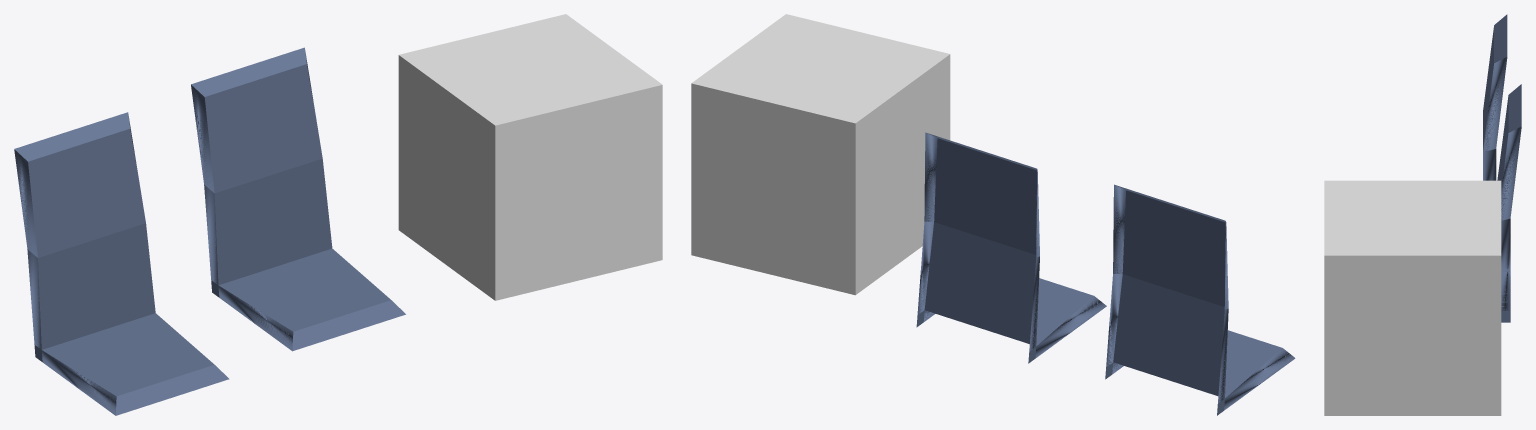
3 renders of one model, left to right at view 1: azimuth 30°, elevation 25°; view 2: azimuth 150°, elevation 25°; view 3: azimuth 270°, elevation 25°, orthographic. The views are drawn at different scales.
Parts seen in each view (by area): view 1: Cube, Seats.001, Seats.072; view 2: Cube, Seats.001, Seats.072; view 3: Cube, Seats.072, Seats.001.
Boxes of the visible parts, x1,y1,x2,y2 form: Cube: (398,14,662,300); Seats.001: (14,112,229,415); Seats.072: (191,47,405,351); Cube: (691,14,950,295); Seats.001: (1105,184,1295,415); Seats.072: (916,132,1106,363); Cube: (1324,180,1501,415); Seats.072: (1497,84,1521,322); Seats.001: (1483,14,1507,180).
Bounding box in the file's own units: 6.55 × 2.63 × 2.23.
